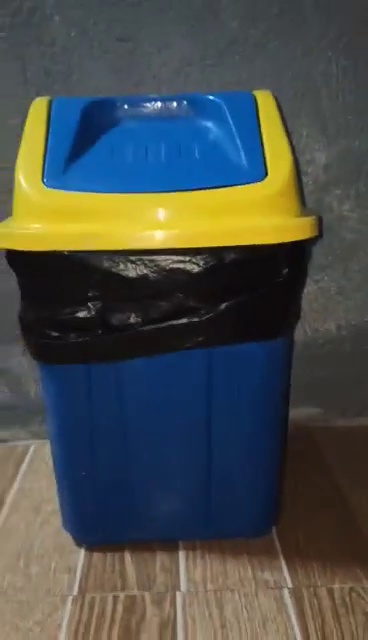garbagebin: (1, 88, 325, 554)
